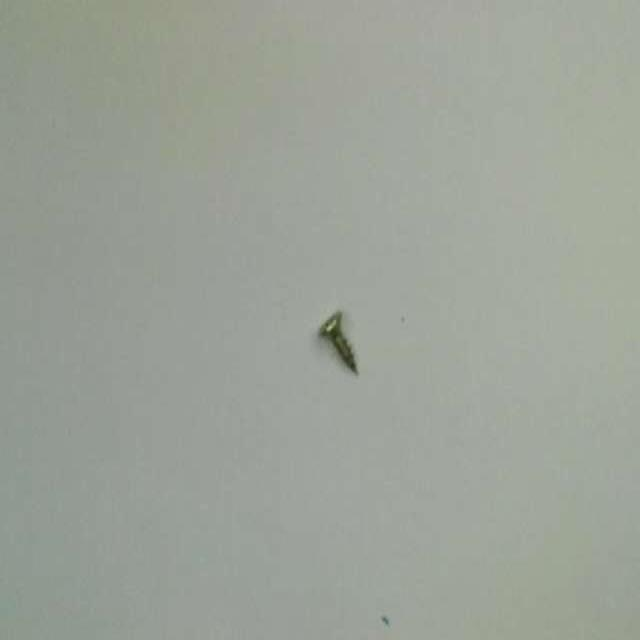Parafuso: (320, 312, 356, 372)
